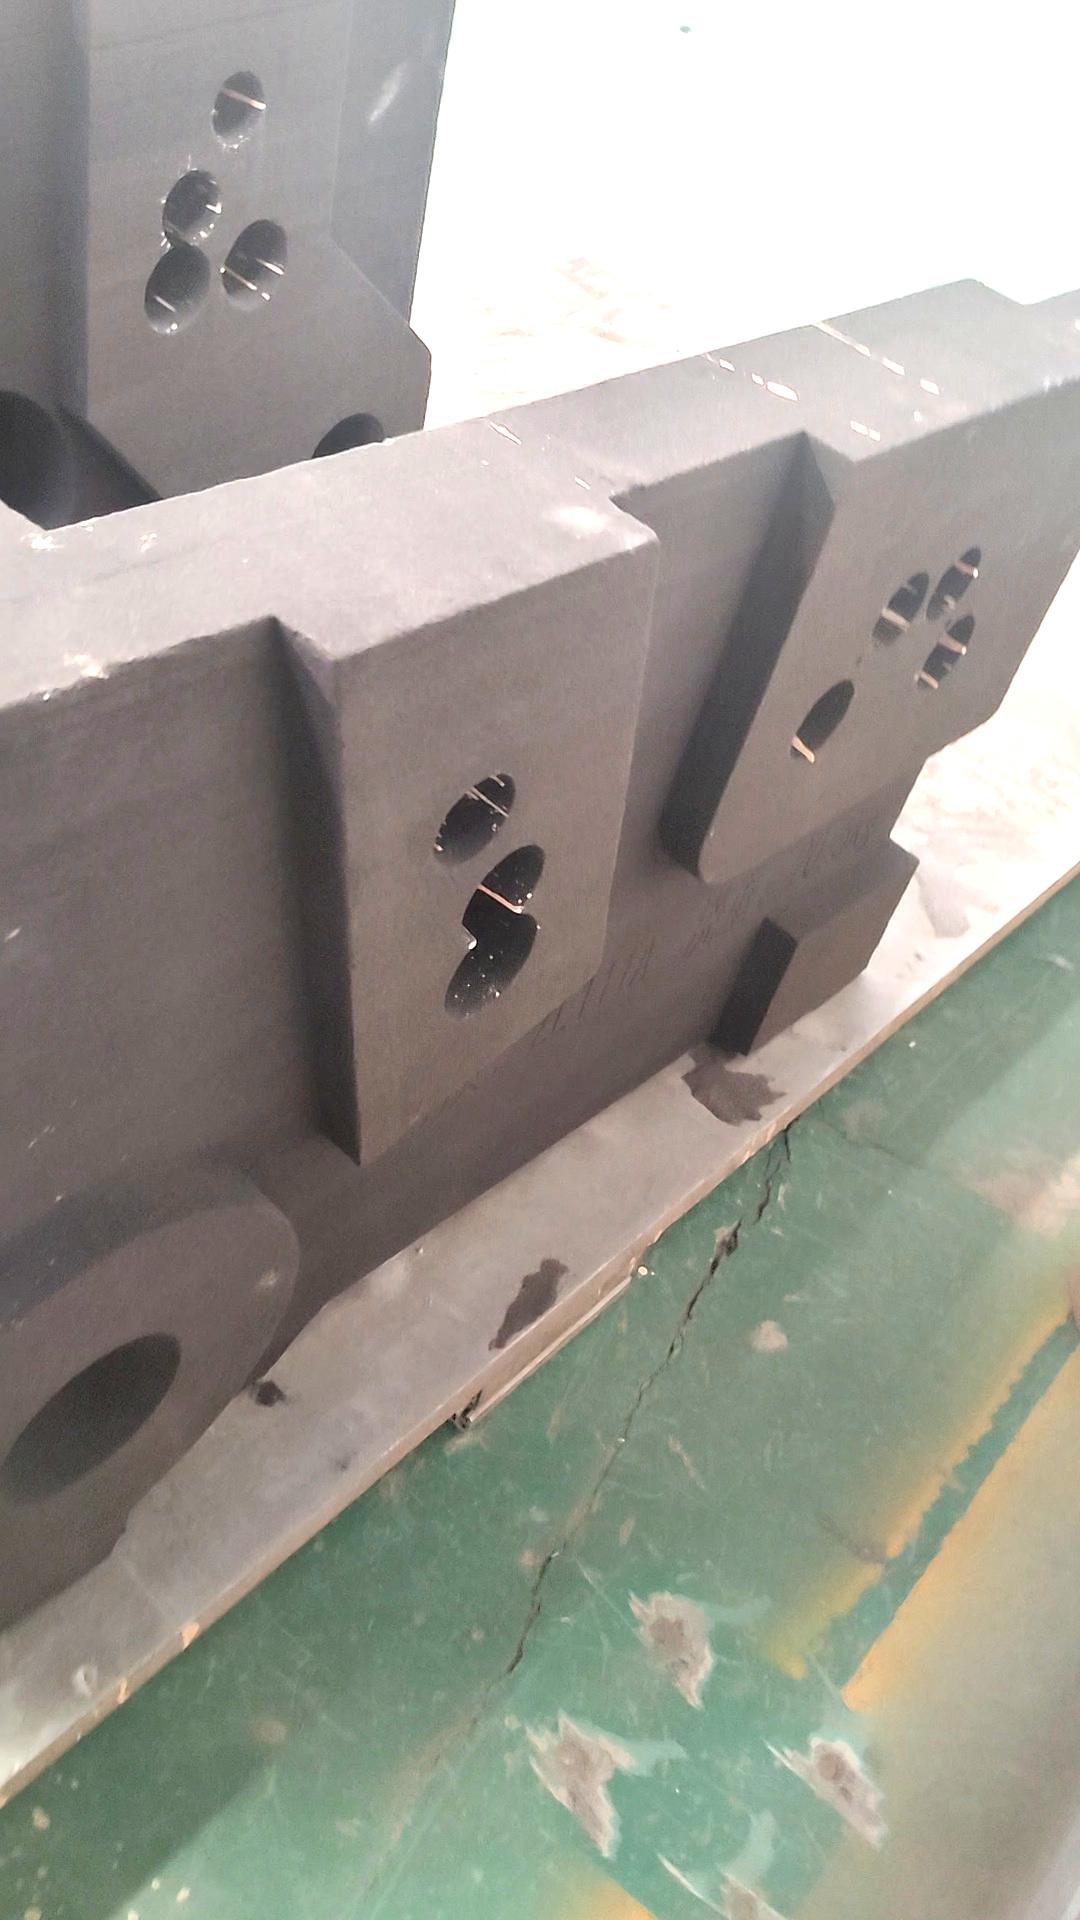pouring hole: (1, 1325, 186, 1509), (1, 388, 69, 543)
